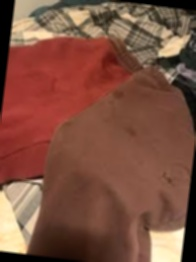oil: (158, 169, 175, 185), (123, 126, 138, 139), (117, 94, 128, 104)
